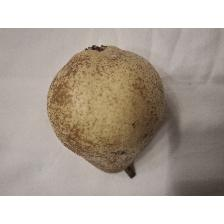Birne: (44, 43, 170, 180)
